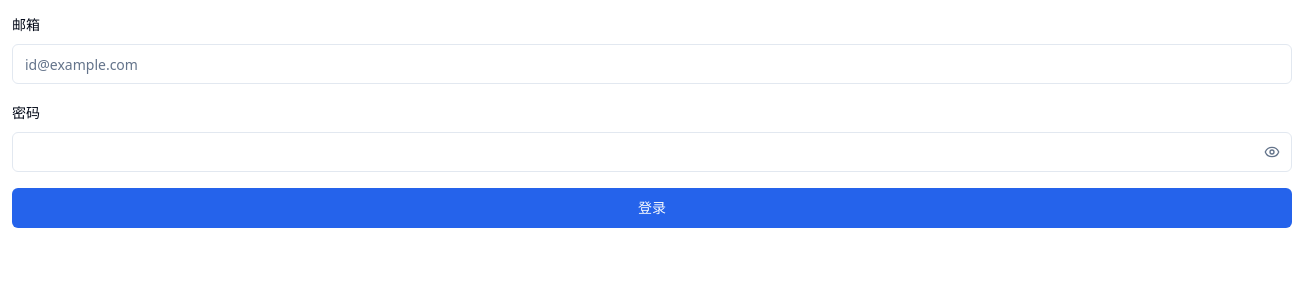
SigninForm Component › shows an error message on failed submit
The width and height of the screenshot is (1304, 293).
Type "admin@example.com" into the field labelled "邮箱" at (652, 64), box [12,44,1292,84]
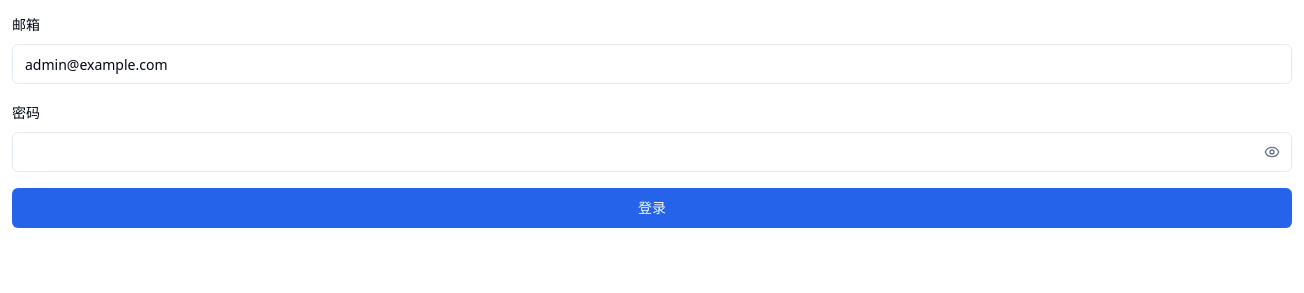
Type "wrongpassword" into the password field labelled "密码" at (652, 152), box [12,132,1292,172]
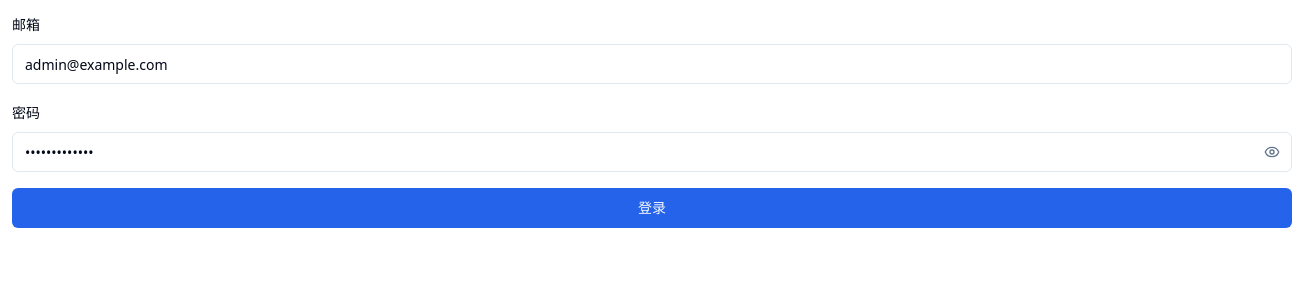
Click the button "登录" at (652, 208), box [12,188,1292,228]
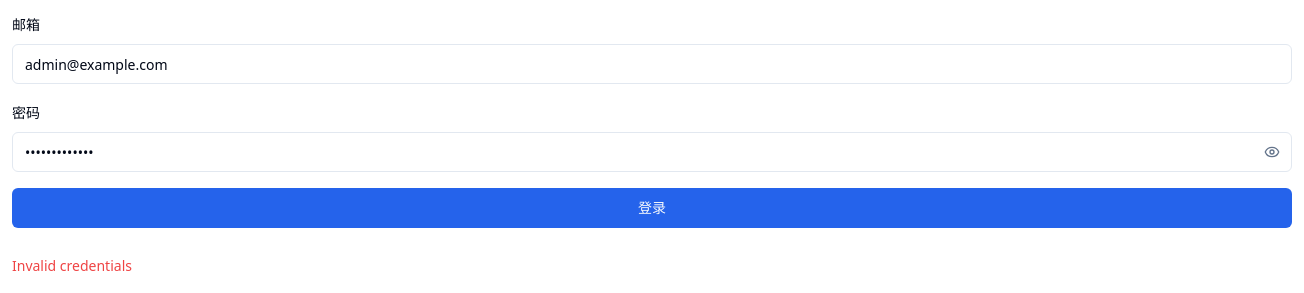
Result: the text "Invalid credentials" is shown at [12,256,132,276]
